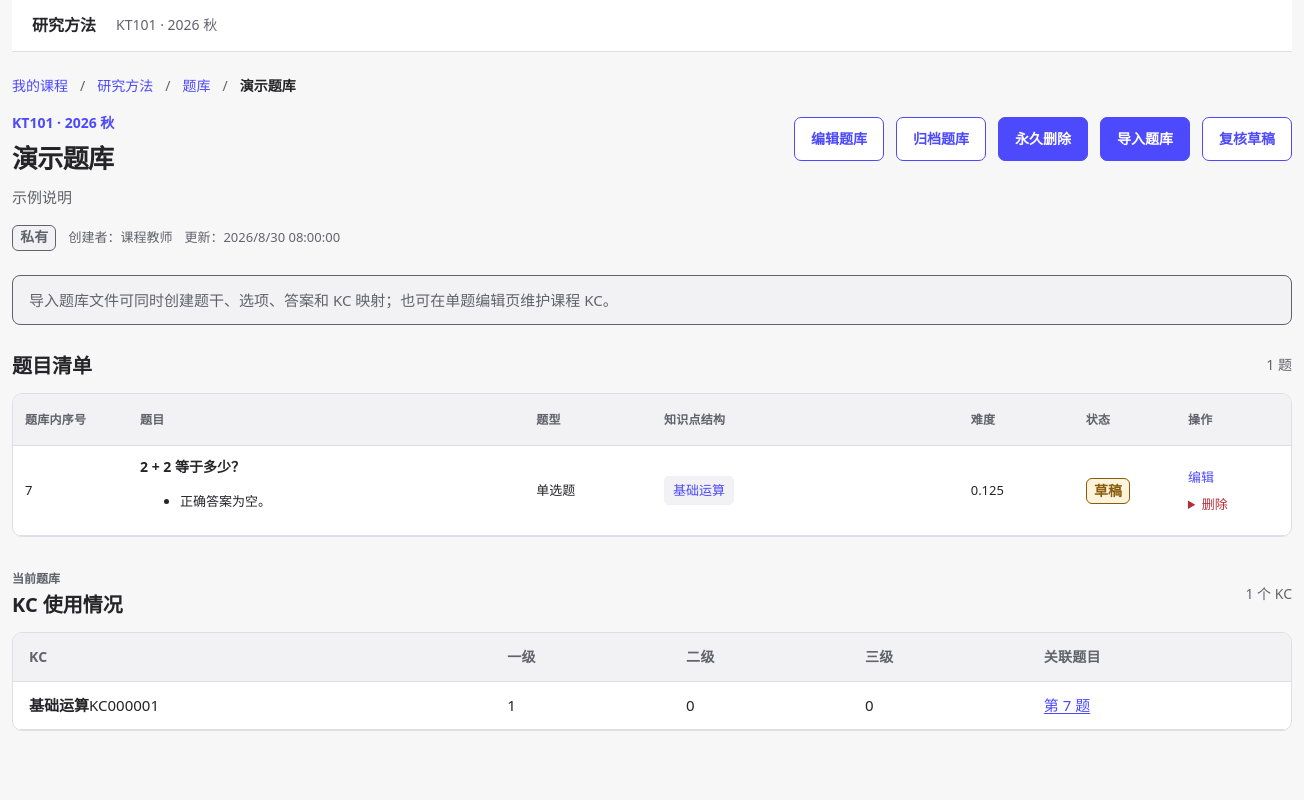
Test: TeacherQuestionBankDetail › shows draft reasons and refreshes the authoritative bank after rechecking drafts
Click the button "复核草稿": point(1247, 139) [1202,117,1292,161]
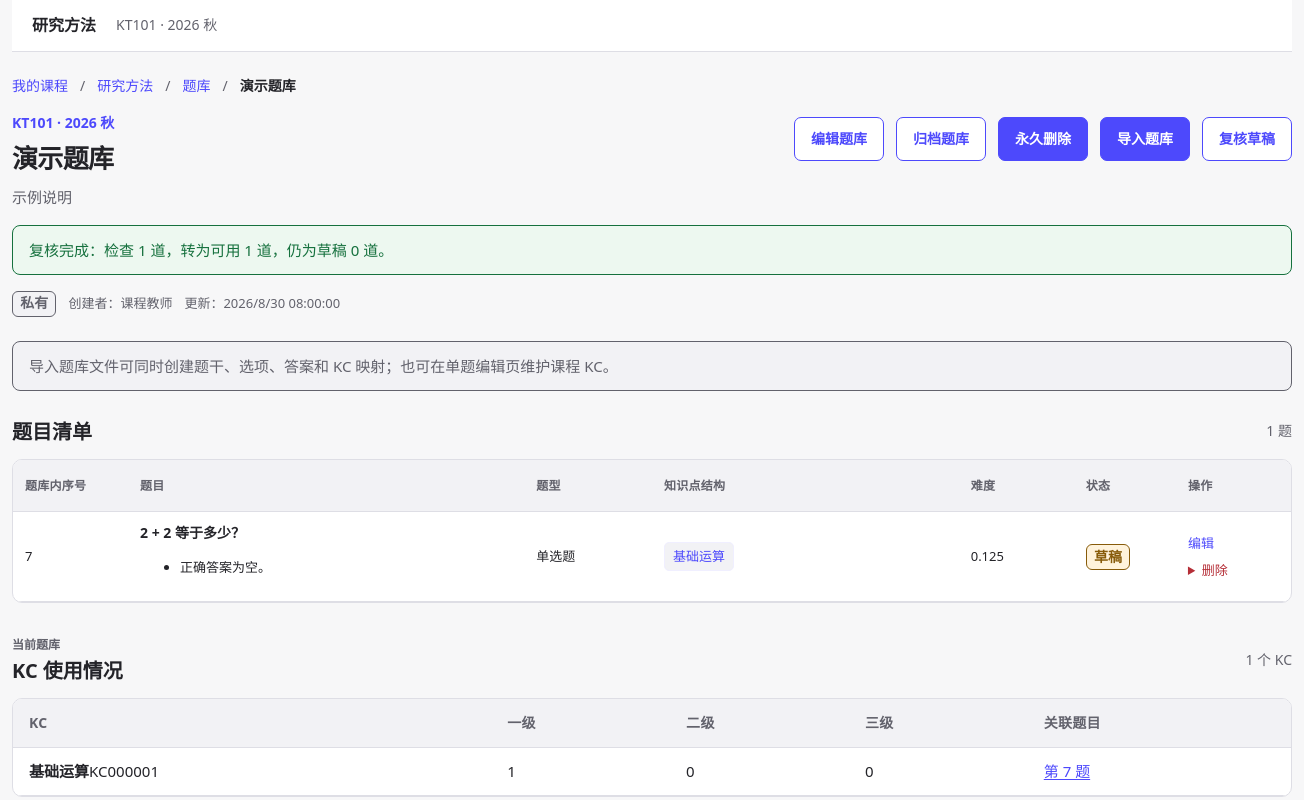
Expected: the text "检查 1 道，转为可用 1 道，仍为草稿 0 道" is shown, [29,240,393,260]
